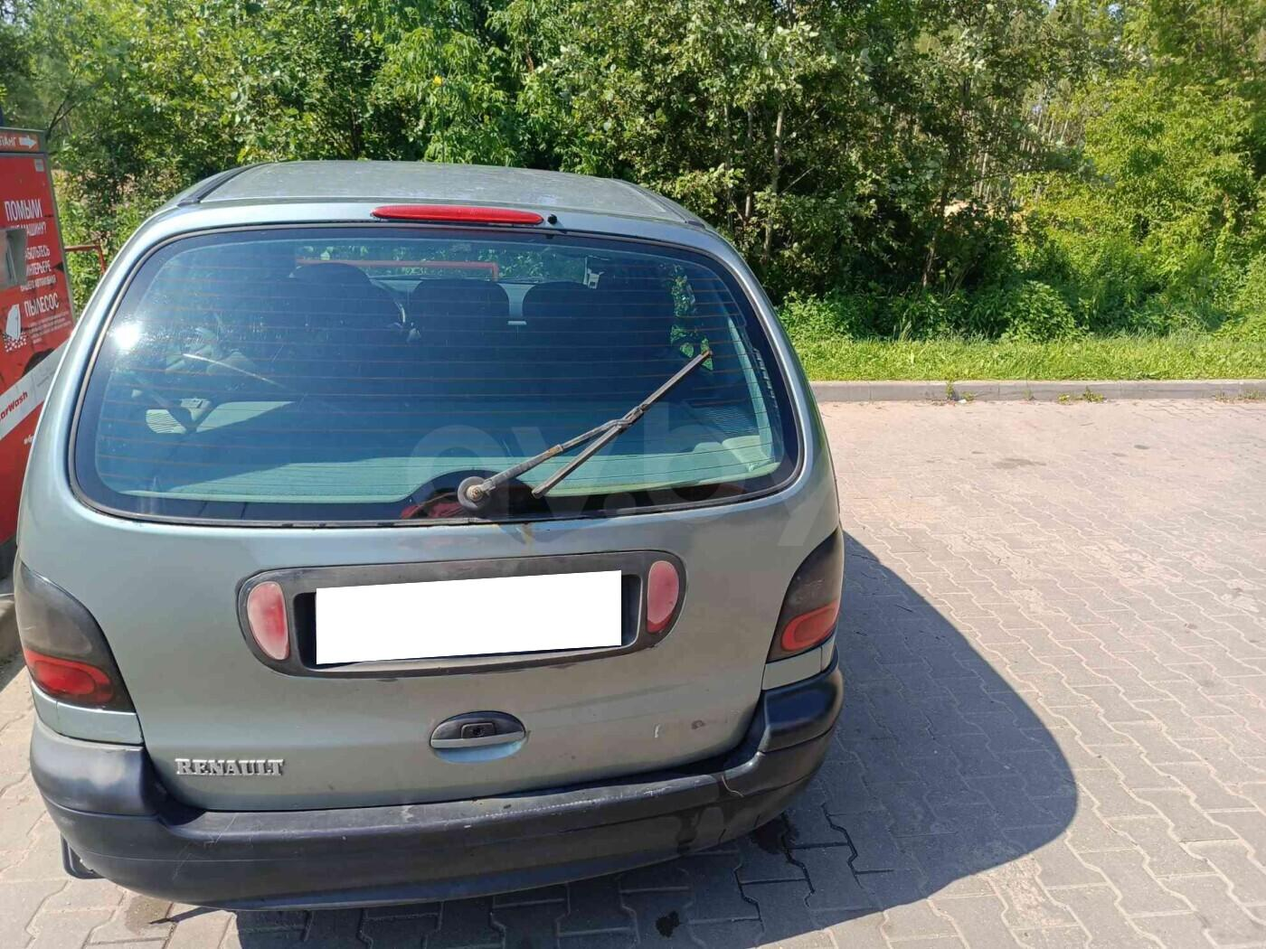Megane_1995-1999: (19, 137, 854, 921)
